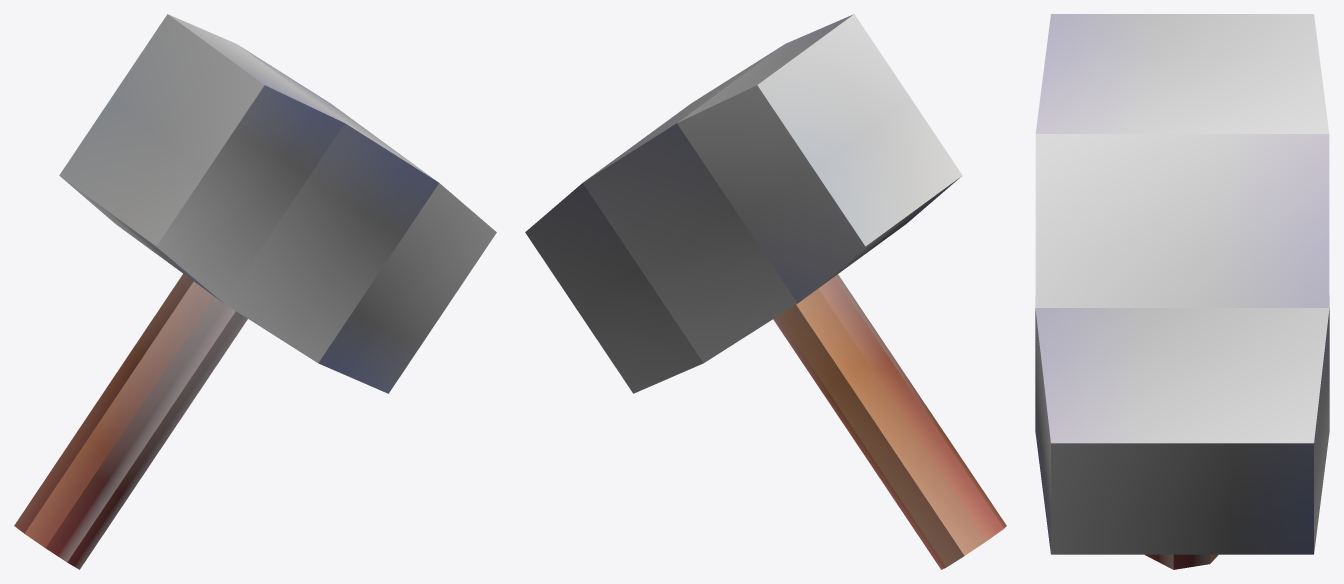
Rendered from hammer01.fbx.
3 views of the same model, side by side, from view 1: azimuth 30°, elevation 25°; view 2: azimuth 150°, elevation 25°; view 3: azimuth 270°, elevation 25° (orthographic). The views are drawn at different scales.
Parts seen in each view (by area): view 1: hammer01; view 2: hammer01; view 3: hammer01.
Part boxes in pixels (x1,y1,x2,y2): hammer01: (14,14,496,569); hammer01: (525,14,1006,569); hammer01: (1035,14,1329,569).
Size of the model in its own units: 128 by 138 by 56.43.
